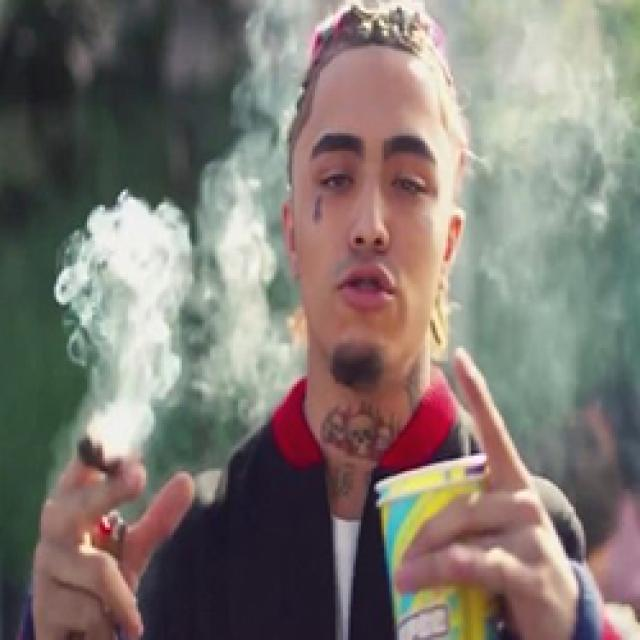Smooking: (75, 426, 108, 478)
